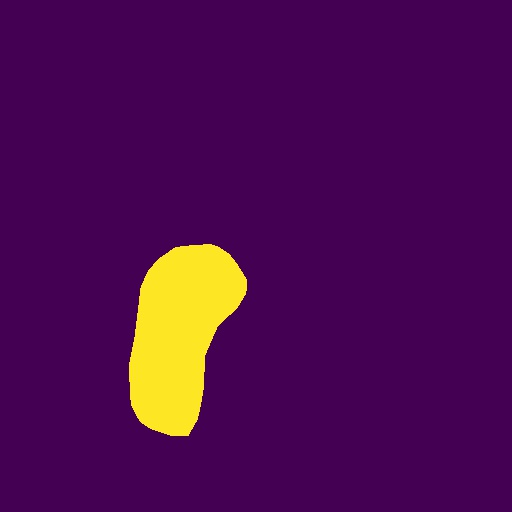Gliomia_tumour: (129, 244, 247, 436)
